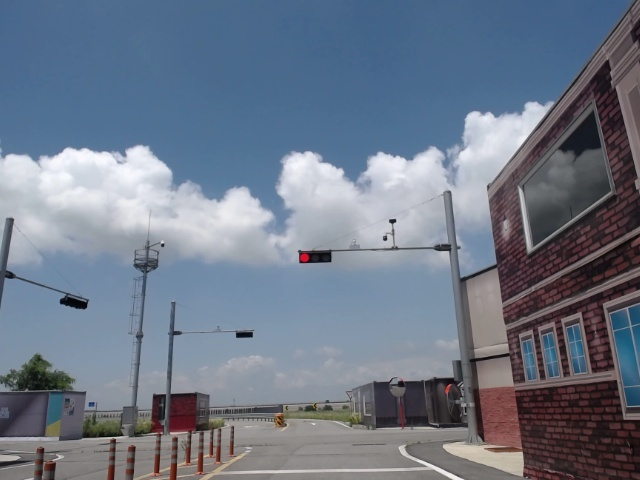red_3: (298, 251, 332, 264)
